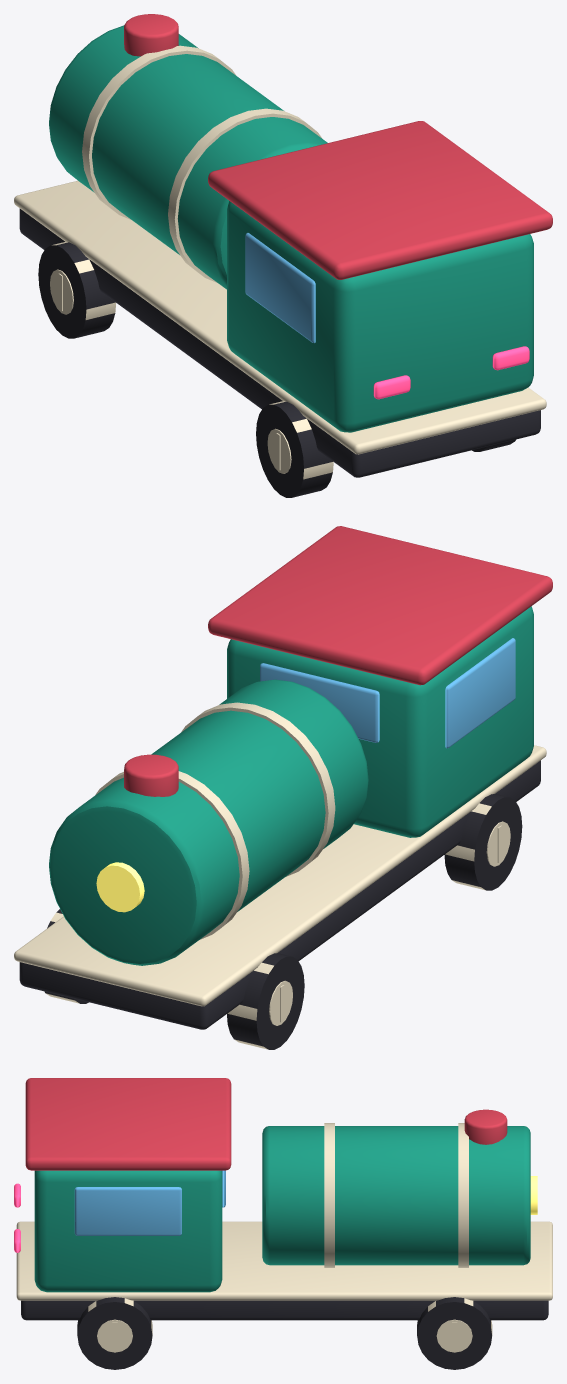
File: train.glb
The picture shows the model from 3 angles, top to bottom: view 1: azimuth 30°, elevation 25°; view 2: azimuth 150°, elevation 25°; view 3: azimuth 270°, elevation 25°; orthographic projection. The views are drawn at different scales.
Visible parts, largest first — view 1: body, wheel_RL, wheel_FL; view 2: body, wheel_RL, wheel_FL; view 3: body, wheel_RR, wheel_FR.
Part boxes in pixels (box(x1,y1,x2,y2)): body: box(14, 14, 552, 477); wheel_RL: box(256, 401, 333, 497); wheel_FL: box(38, 242, 115, 338); body: box(14, 526, 552, 1029); wheel_RL: box(444, 793, 522, 890); wheel_FL: box(227, 953, 304, 1049); body: box(14, 1078, 552, 1320); wheel_RR: box(77, 1297, 152, 1369); wheel_FR: box(417, 1297, 492, 1369).
Size of the model in its own units: 2.24 by 2.6 by 6.03.
